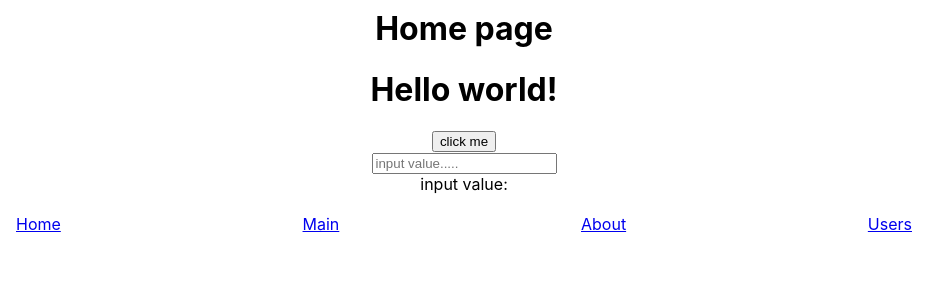
Test: app test › input event
Type "biba" into the field with placeholder "input value....." at (464, 164), box [372,153,556,174]
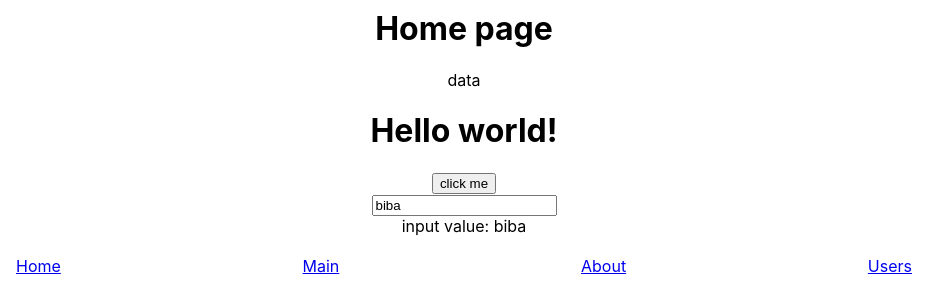
Expected: the text with test id "input-value" reads "biba", [494,216,526,236]
